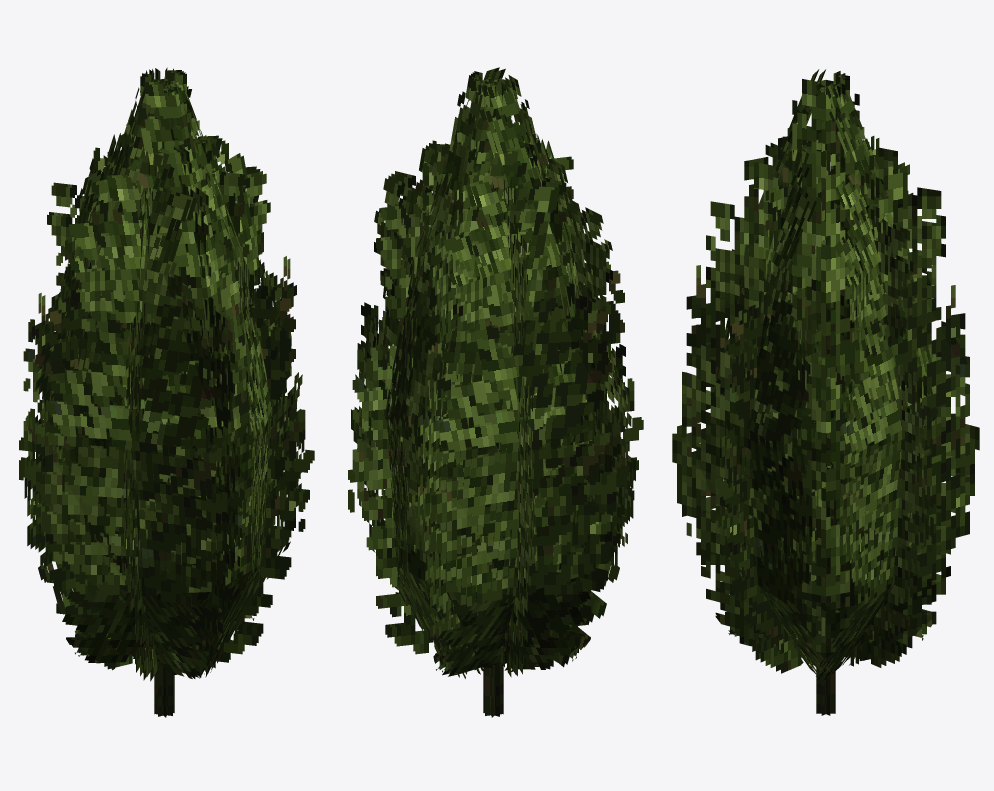
The model's file is bush05_spring1.glb.
3 views of the same model, side by side, from view 1: azimuth 30°, elevation 25°; view 2: azimuth 150°, elevation 25°; view 3: azimuth 270°, elevation 25° (orthographic).
Visible parts, largest first — view 1: bush05; view 2: bush05; view 3: bush05.
Boxes of the visible parts, x1,y1,x2,y2 form: bush05: [19, 67, 314, 717]; bush05: [348, 67, 643, 717]; bush05: [672, 69, 979, 715].
Bounding box in the file's own units: 0.66 × 1.5 × 0.66.
1 material, 1 textured.
